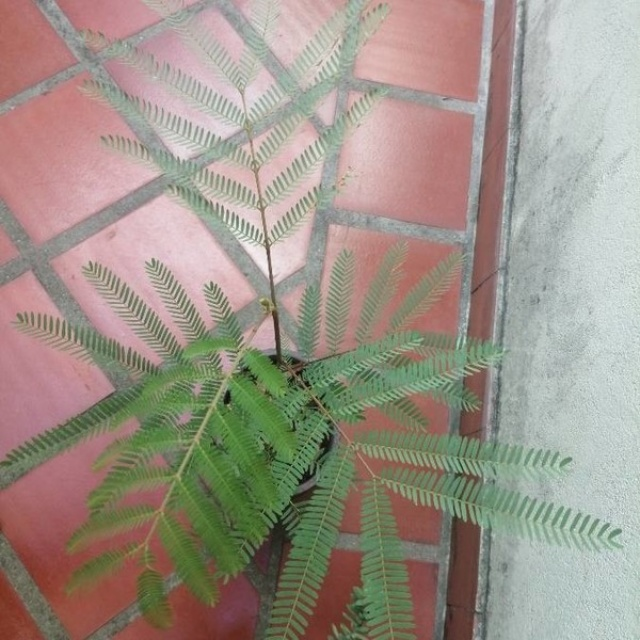obstacle: (101, 256, 516, 621)
